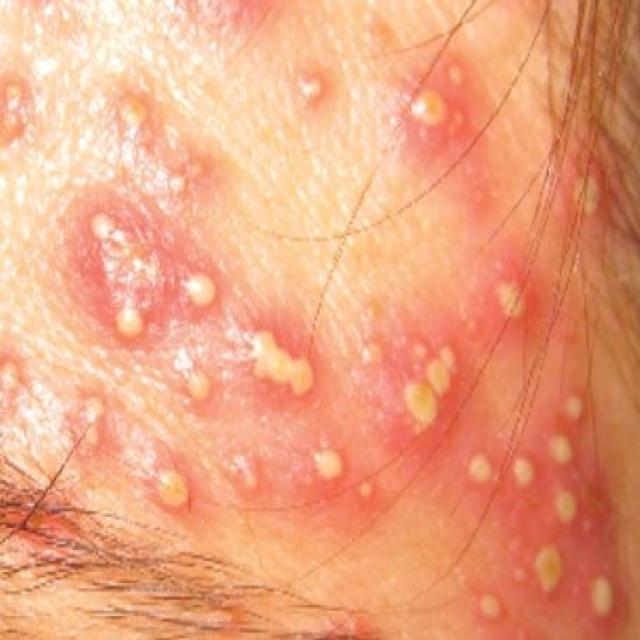pustule: (22, 194, 399, 536), (454, 361, 640, 640), (388, 231, 564, 490), (89, 72, 247, 187), (385, 48, 499, 170), (273, 30, 349, 141)
